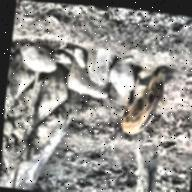boar: (110, 60, 178, 146)
